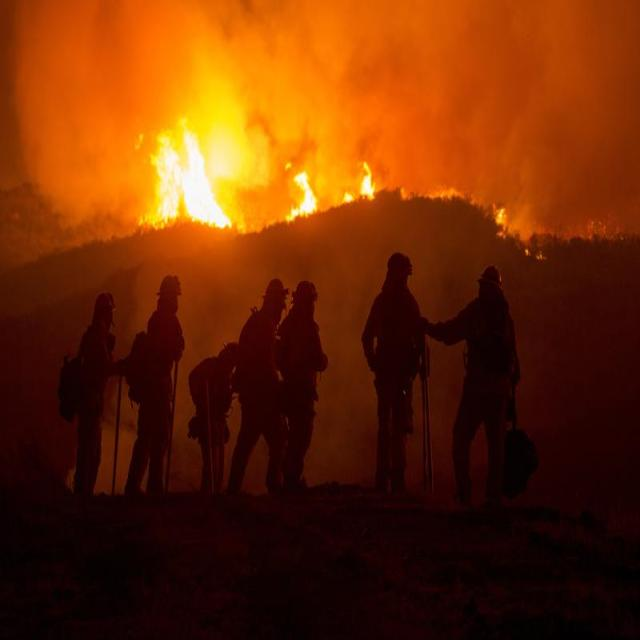Fire: (145, 69, 382, 237)
